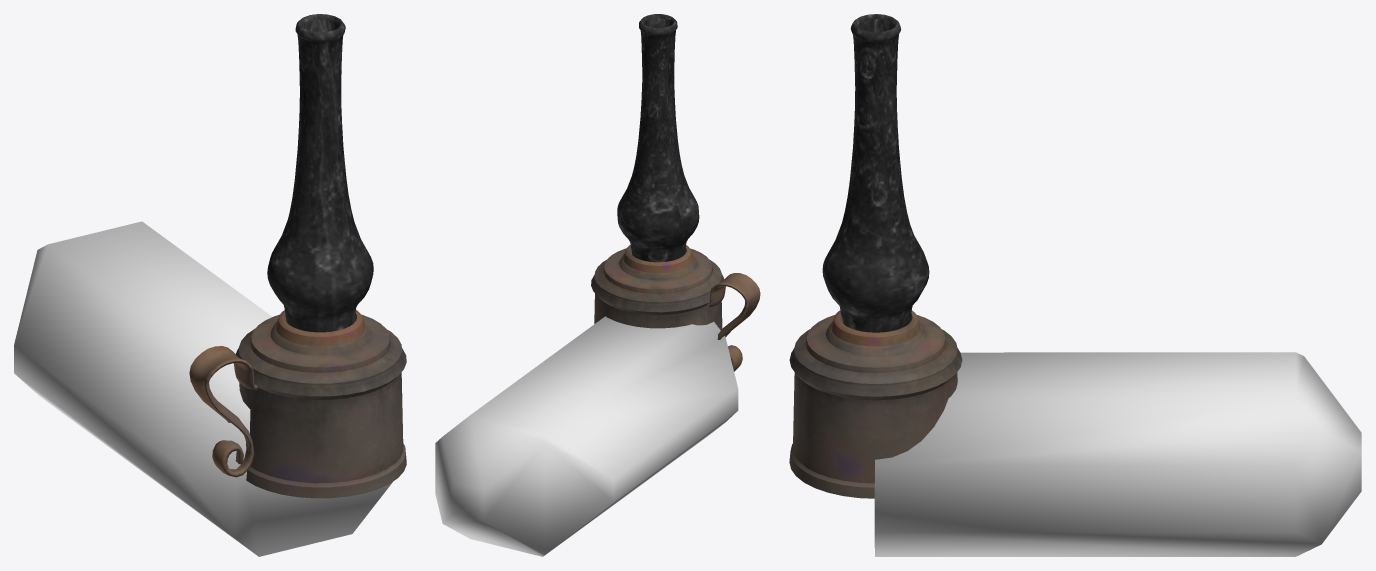
The model's file is SM_OilLamp.fbx.
3 renders of one model, left to right at view 1: azimuth 30°, elevation 25°; view 2: azimuth 150°, elevation 25°; view 3: azimuth 270°, elevation 25°, orthographic. The views are drawn at different scales.
Visible parts, largest first — view 1: SM_OilLamp_ConvexHulls, SM_OilLamp; view 2: SM_OilLamp_ConvexHulls, SM_OilLamp; view 3: SM_OilLamp_ConvexHulls, SM_OilLamp.
Boxes of the visible parts, x1,y1,x2,y2 form: SM_OilLamp_ConvexHulls: [14, 221, 392, 556]; SM_OilLamp: [189, 14, 406, 498]; SM_OilLamp_ConvexHulls: [435, 316, 738, 556]; SM_OilLamp: [591, 14, 760, 371]; SM_OilLamp_ConvexHulls: [874, 352, 1361, 556]; SM_OilLamp: [789, 14, 962, 498].
Bounding box in the file's own units: 0.2194 × 0.5426 × 0.5426.
